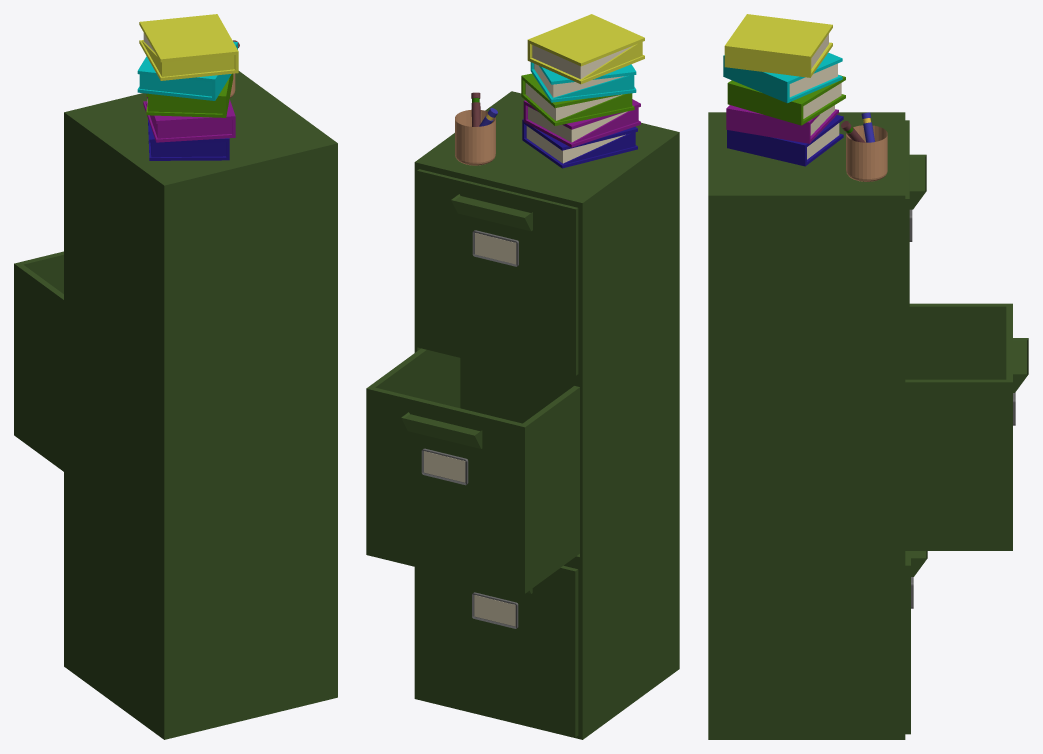
Rendered from casier_decor_full.glb.
3 renders of one model, left to right at view 1: azimuth 30°, elevation 25°; view 2: azimuth 150°, elevation 25°; view 3: azimuth 270°, elevation 25°, orthographic. The views are drawn at different scales.
Parts seen in each view (by area): view 1: model; view 2: model; view 3: model.
Part boxes in pixels (box(x1,y1,x2,y2)): model: box(14, 14, 337, 739); model: box(366, 14, 679, 739); model: box(708, 14, 1028, 739).
Size of the model in its own units: 3.7 by 13.48 by 6.01.
